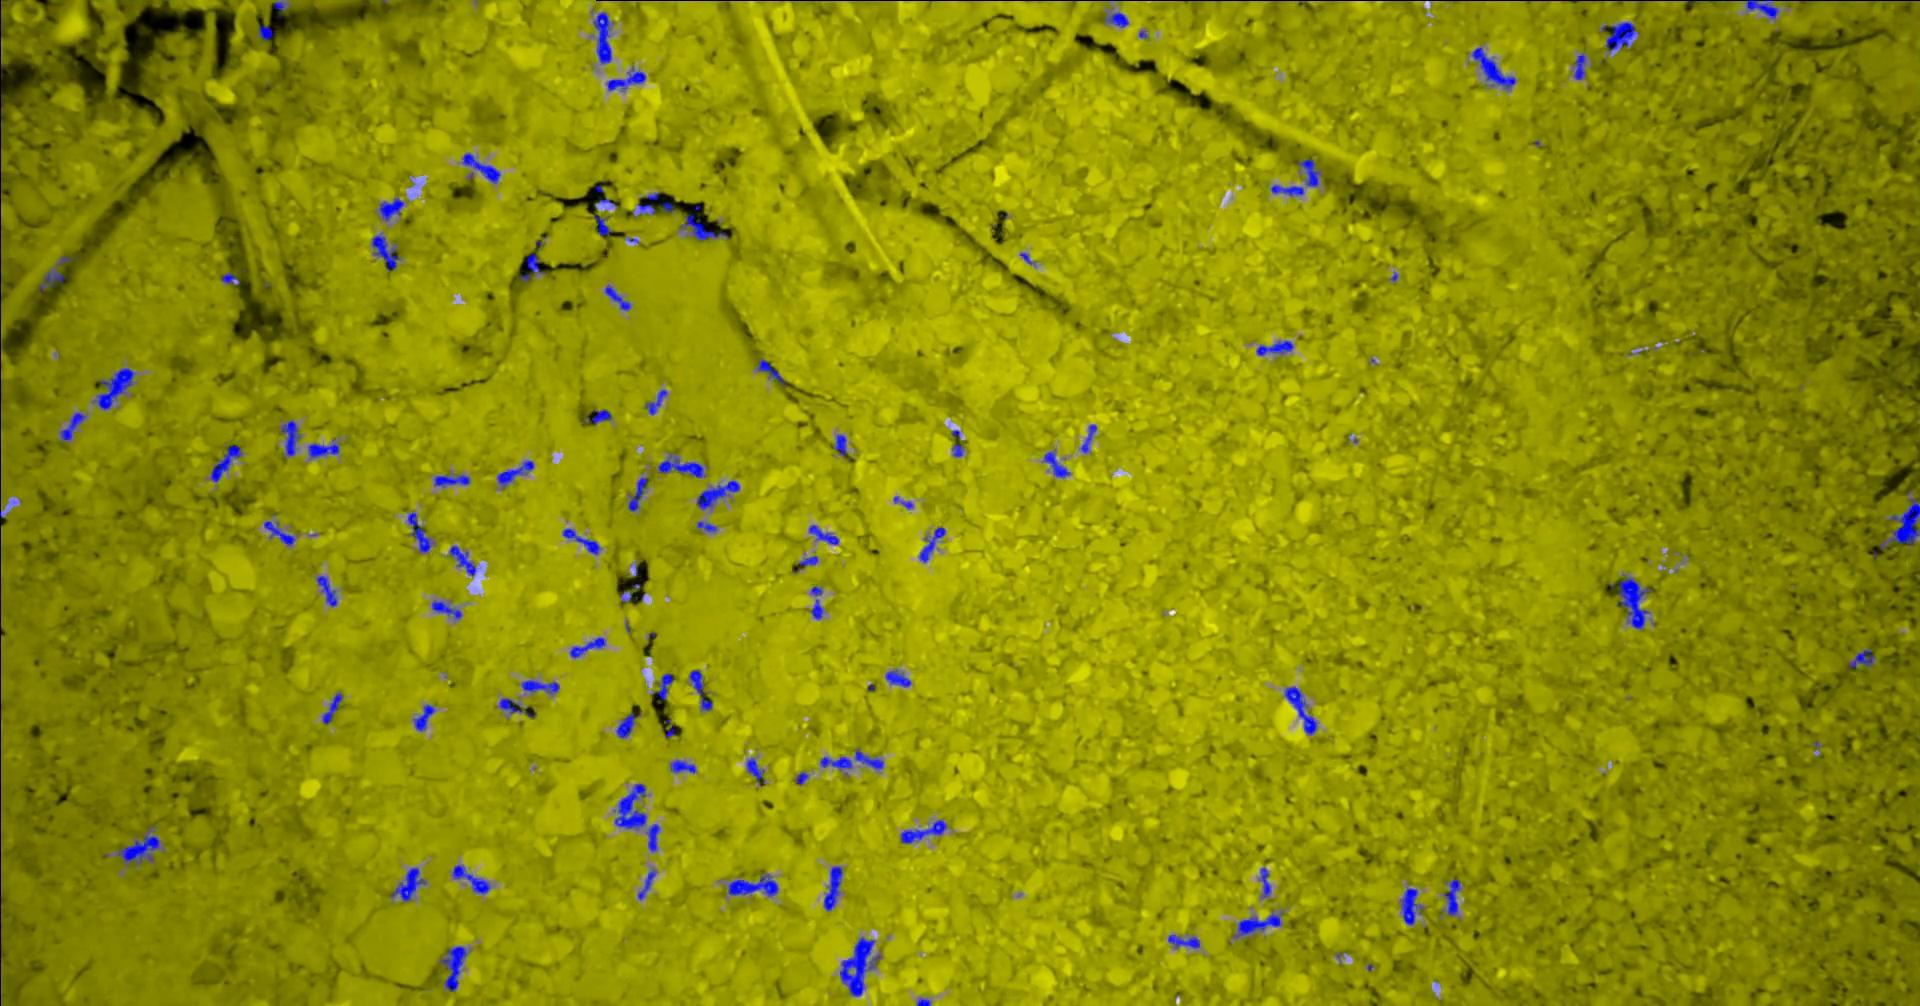ant: (1879, 497, 1919, 549), (1617, 574, 1652, 629), (1470, 47, 1515, 89), (91, 367, 135, 409), (117, 824, 159, 862), (1284, 686, 1317, 734), (615, 782, 646, 828), (439, 945, 469, 991), (679, 213, 728, 240), (696, 480, 739, 509), (210, 445, 243, 481), (461, 152, 500, 183), (390, 868, 425, 901), (451, 864, 489, 894), (728, 873, 778, 895), (1600, 22, 1638, 51), (900, 819, 946, 843), (657, 455, 703, 478), (1233, 913, 1280, 936), (371, 232, 399, 271), (606, 66, 645, 91), (497, 460, 533, 486), (408, 511, 430, 553), (918, 526, 945, 561), (563, 528, 599, 554), (690, 669, 712, 710), (593, 11, 611, 64), (1399, 887, 1422, 923), (823, 866, 842, 909), (263, 520, 295, 545), (58, 412, 85, 441), (519, 251, 545, 282), (450, 545, 475, 575), (1043, 451, 1070, 478), (756, 359, 785, 385), (569, 636, 604, 657), (281, 419, 300, 456), (498, 697, 535, 716), (1441, 878, 1460, 915), (627, 476, 648, 511), (604, 285, 630, 310), (1297, 158, 1319, 185), (307, 438, 338, 459), (316, 575, 337, 606), (615, 713, 640, 737), (323, 692, 342, 724), (637, 868, 657, 899), (1745, 0, 1778, 18), (39, 269, 63, 293), (644, 389, 667, 414), (808, 525, 838, 544), (430, 600, 461, 619), (413, 704, 434, 730), (637, 191, 662, 213), (378, 197, 403, 220), (1848, 647, 1874, 667), (651, 673, 672, 700), (521, 680, 559, 694), (855, 749, 883, 768), (745, 757, 764, 785), (1256, 340, 1293, 354), (433, 474, 470, 486), (1079, 424, 1096, 452), (620, 583, 644, 602), (1167, 934, 1199, 948), (885, 669, 910, 686), (584, 409, 611, 424), (820, 756, 851, 768), (1270, 184, 1303, 196), (810, 586, 822, 619), (1103, 11, 1128, 27), (593, 215, 610, 236), (646, 823, 659, 851), (1258, 866, 1270, 897), (670, 760, 695, 772), (1573, 53, 1585, 79), (832, 434, 846, 455), (220, 272, 239, 285), (273, 0, 287, 17), (797, 555, 817, 567), (258, 24, 272, 39), (696, 521, 716, 531), (664, 718, 674, 737), (794, 771, 808, 784), (952, 443, 963, 456)
